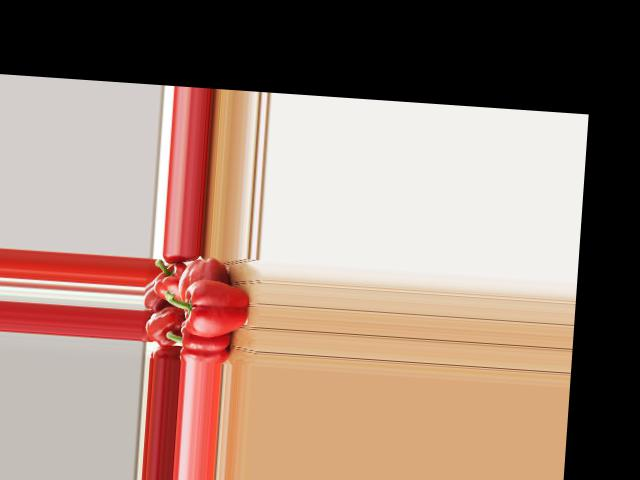bell_pepper: (151, 256, 189, 301)
